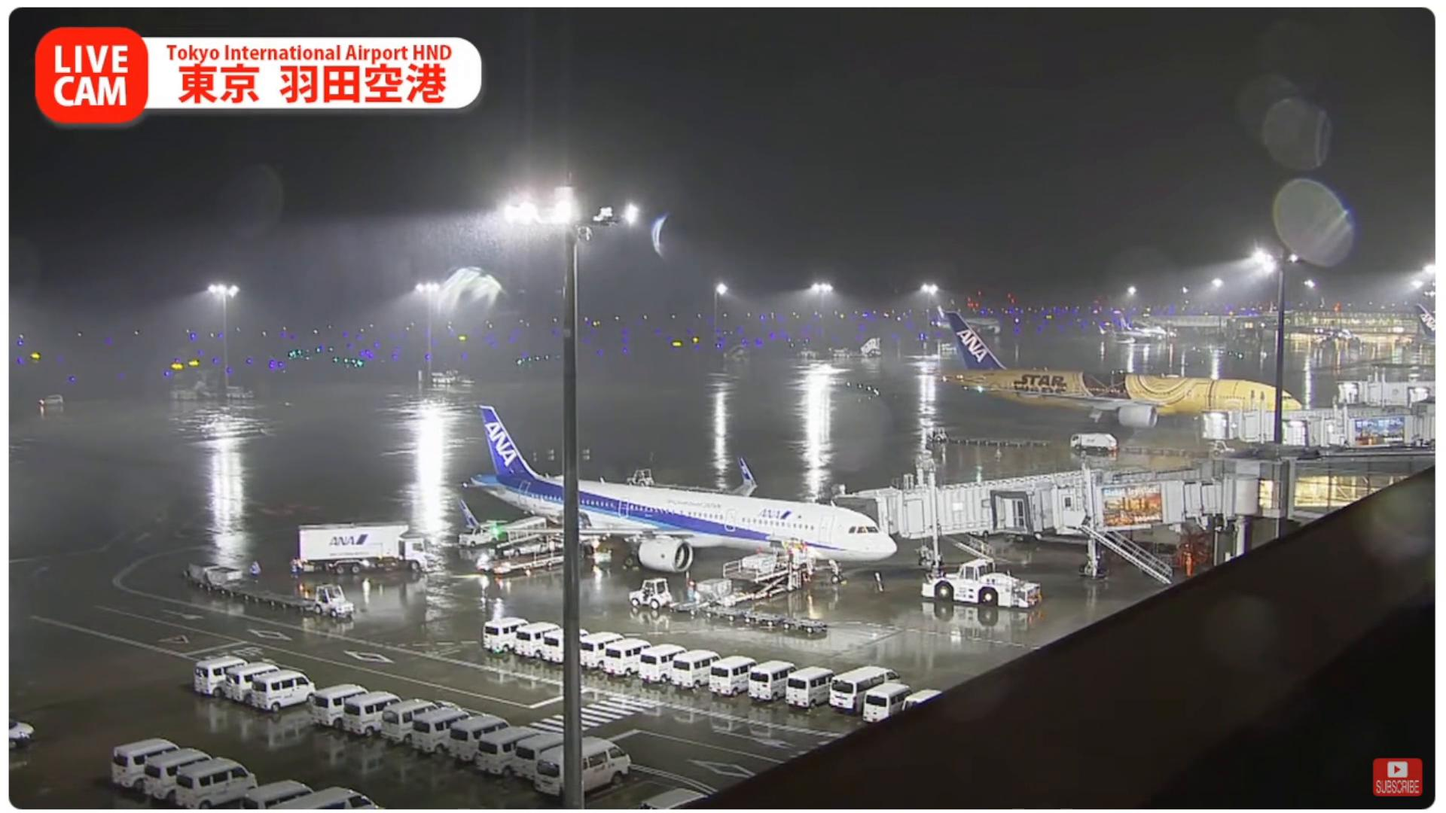APS: (920, 557, 1042, 611)
Aerobridge: (837, 461, 1193, 540), (988, 473, 1227, 539)
Airplane: (456, 406, 894, 586)
Catering: (296, 520, 427, 576)
Dolly: (666, 583, 841, 635), (186, 560, 313, 613)
JCPL: (692, 533, 821, 610)
Skyloader: (472, 515, 563, 576)
Tractor: (310, 583, 356, 618), (629, 577, 670, 610)
Window: (1289, 476, 1414, 509)
